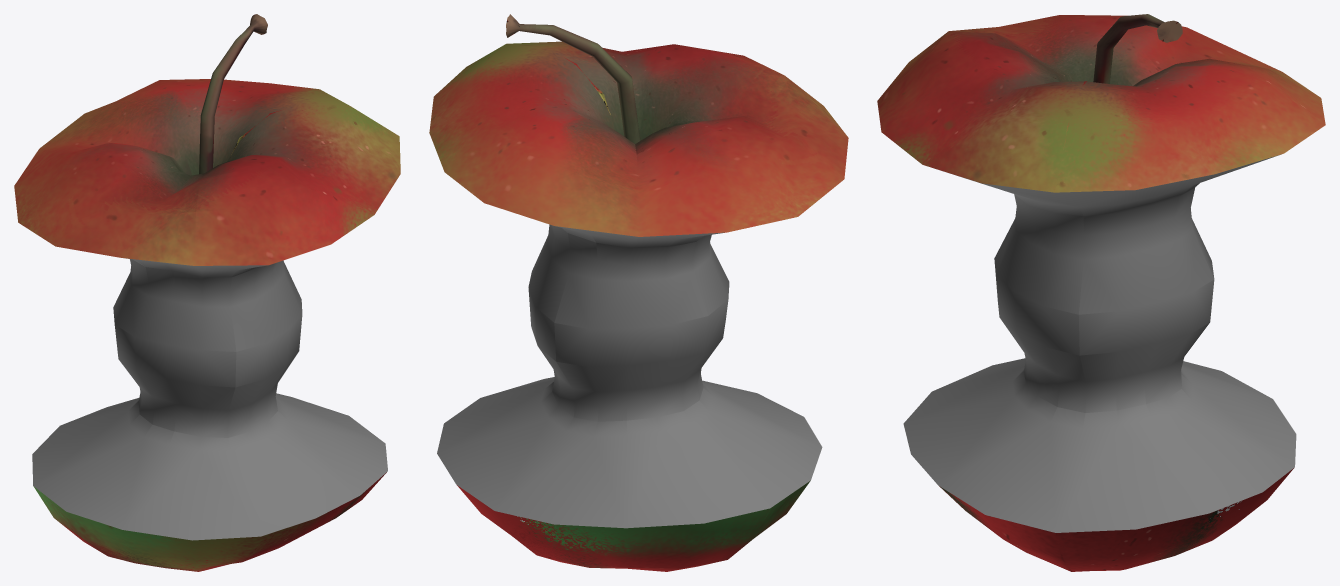
3 views of the same model, side by side, from view 1: azimuth 30°, elevation 25°; view 2: azimuth 150°, elevation 25°; view 3: azimuth 270°, elevation 25° (orthographic). The views are drawn at different scales.
Parts seen in each view (by area): view 1: Apple 01; view 2: Apple 01; view 3: Apple 01.
Boxes of the visible parts, x1,y1,x2,y2 form: Apple 01: (14, 14, 400, 571); Apple 01: (429, 14, 848, 571); Apple 01: (877, 14, 1325, 571).
Bounding box in the file's own units: 6.46 × 8.64 × 6.31.
